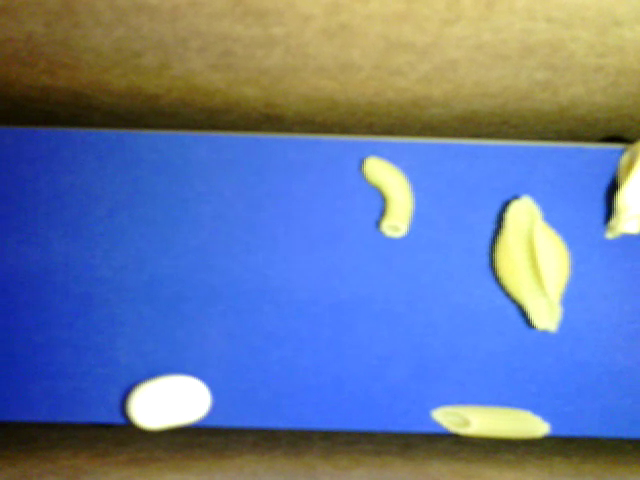elbow: (362, 154, 414, 239)
penne: (430, 403, 550, 438)
shell: (491, 193, 570, 332)
